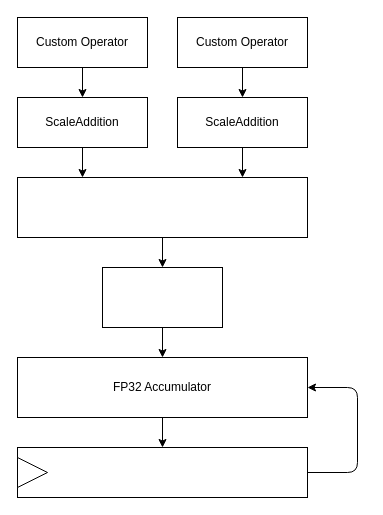
This 383x515 diagram has some shape labels left out. Each missing label, with the centre of its shape:
"Custom Reduction Tree (design-time configuratble datawidth)" goes at pixel 162 207.
"Normalization to 23bit Mantissa" goes at pixel 162 297.
